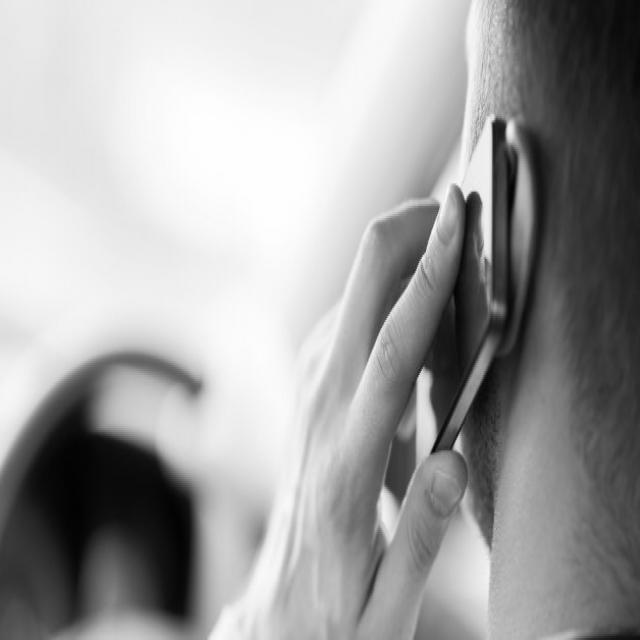phone: (275, 94, 541, 554)
